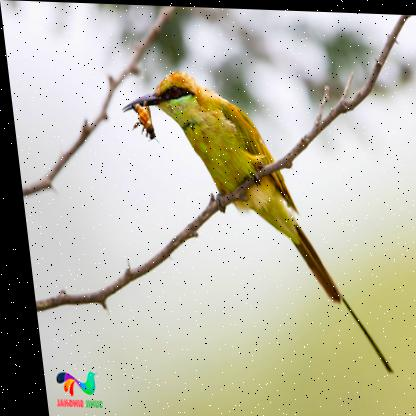Burung: (117, 68, 387, 370)
